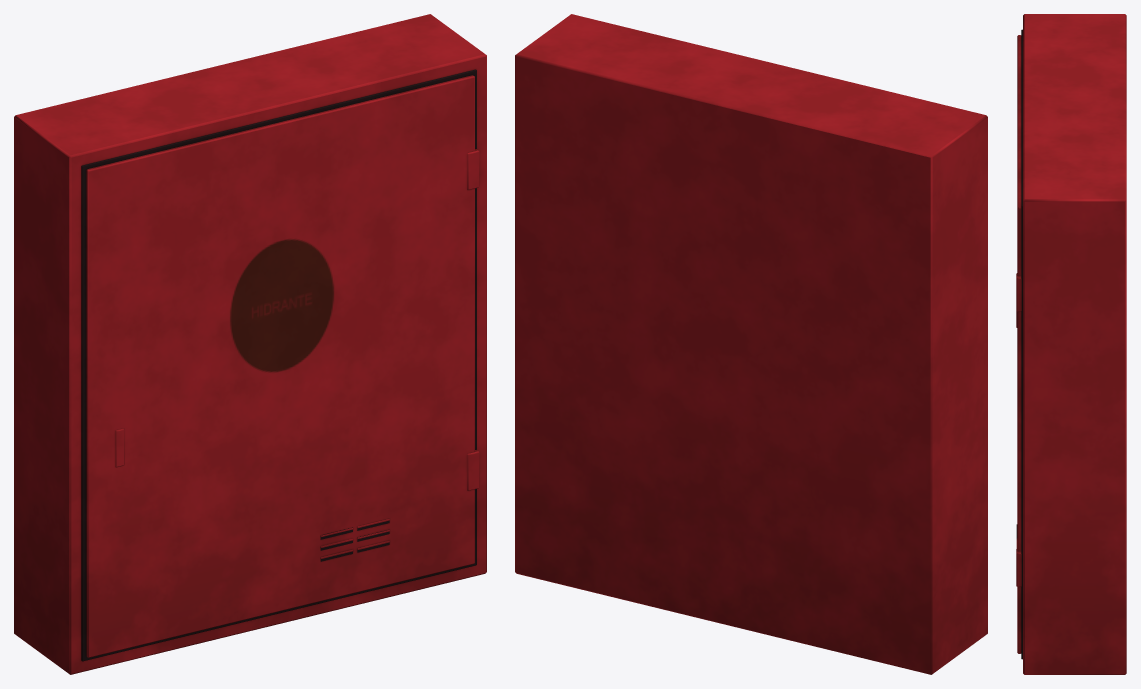
File: hidrante_sujo_realista.glb
3 renders of one model, left to right at view 1: azimuth 30°, elevation 25°; view 2: azimuth 150°, elevation 25°; view 3: azimuth 270°, elevation 25°, orthographic. The views are drawn at different scales.
Visible parts, largest first — view 1: Abrigo_Hidrante_PBR; view 2: Abrigo_Hidrante_PBR; view 3: Abrigo_Hidrante_PBR.
Boxes of the visible parts, box(x1,y1,x2,y2) form: Abrigo_Hidrante_PBR: box(14, 14, 486, 674); Abrigo_Hidrante_PBR: box(515, 14, 987, 674); Abrigo_Hidrante_PBR: box(1016, 14, 1126, 674).
Size of the model in its own units: 0.8 by 0.95 by 0.2.
Materials: 1 (1 with a texture image).
